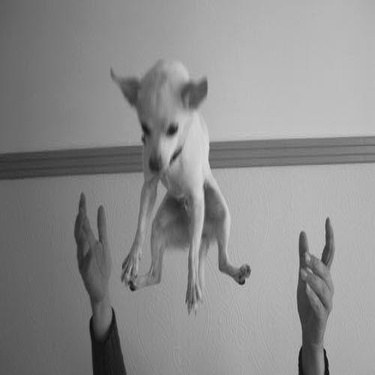dog: (97, 50, 255, 318)
